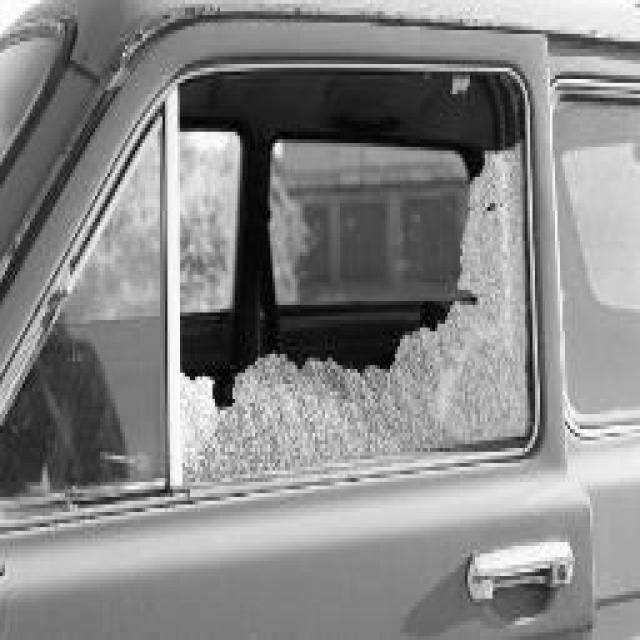Door: (80, 15, 620, 640)
